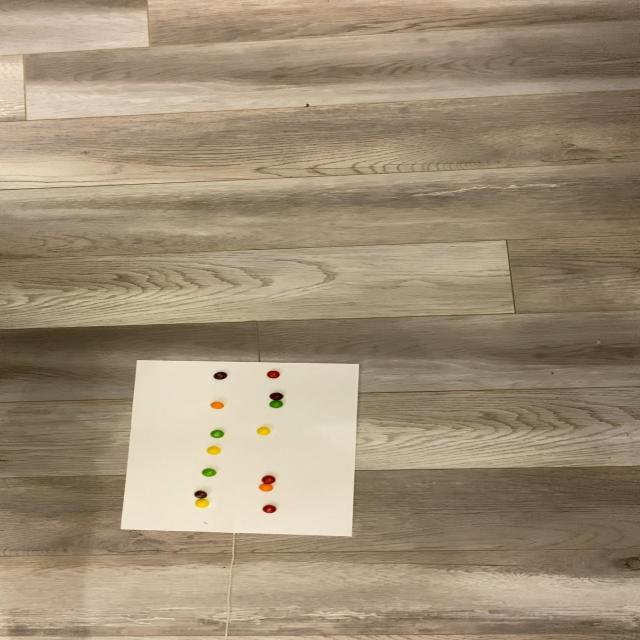smartie: (206, 445, 222, 455), (256, 426, 271, 436), (193, 490, 208, 500), (259, 482, 274, 492), (195, 499, 210, 509), (263, 505, 278, 515), (269, 392, 283, 402), (266, 370, 280, 380), (213, 371, 228, 380), (210, 402, 225, 411), (268, 400, 283, 409), (202, 468, 217, 477), (261, 476, 275, 485), (210, 430, 224, 438)
